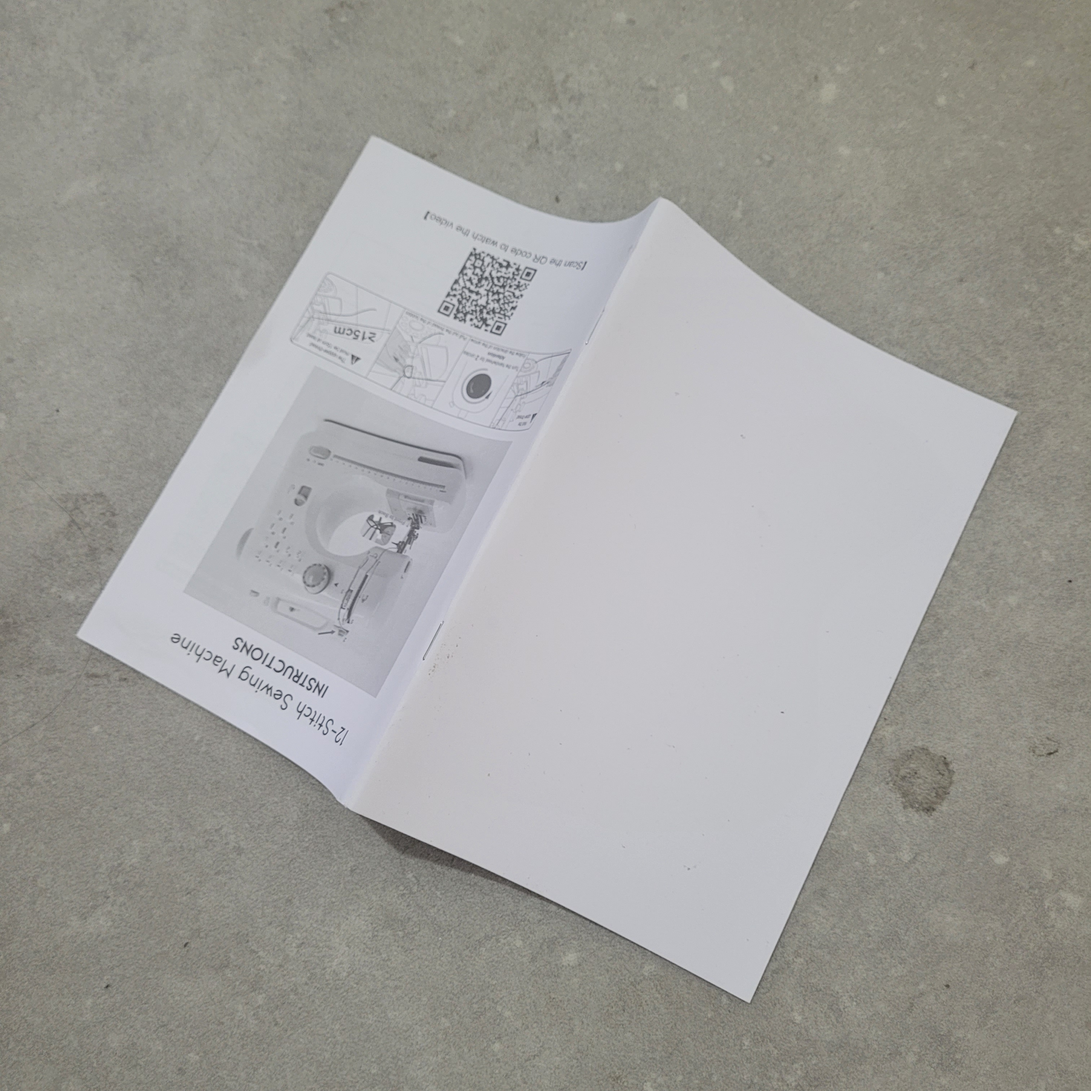paper: (74, 128, 1026, 1010)
